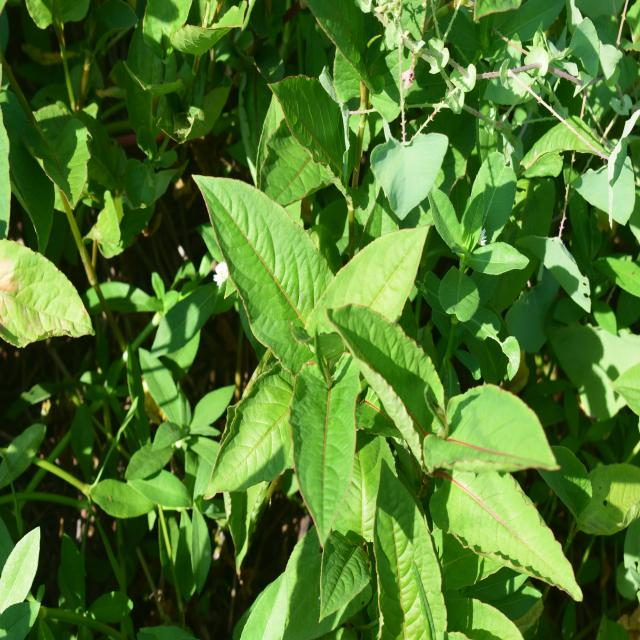Chinese_knotweed: (185, 163, 550, 562)
